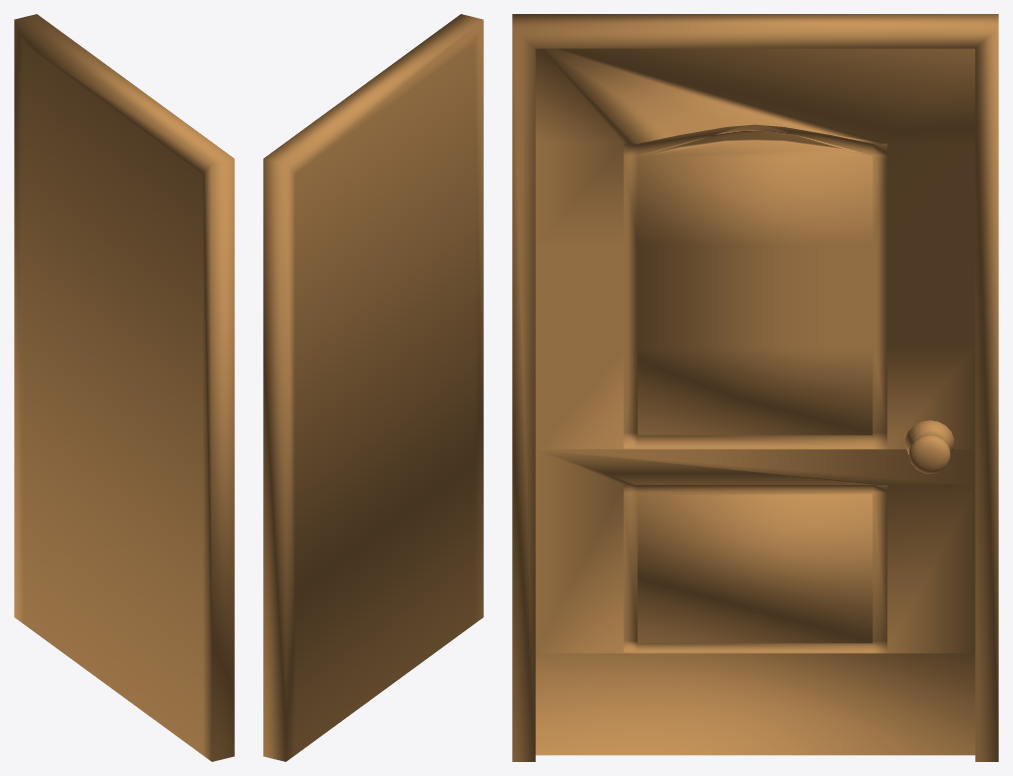
Rendered from Door.fbx.
3 renders of one model, left to right at view 1: azimuth 30°, elevation 25°; view 2: azimuth 150°, elevation 25°; view 3: azimuth 270°, elevation 25°, orthographic. The views are drawn at different scales.
Visible parts, largest first — view 1: Door:Box001; view 2: Door:Box001; view 3: Door:Box001.
Part boxes in pixels (<box>): Door:Box001: <box>14,14,234,761</box>; Door:Box001: <box>263,14,483,761</box>; Door:Box001: <box>512,14,998,761</box>.
Bounding box in the file's own units: 13.37 × 197 × 118.
